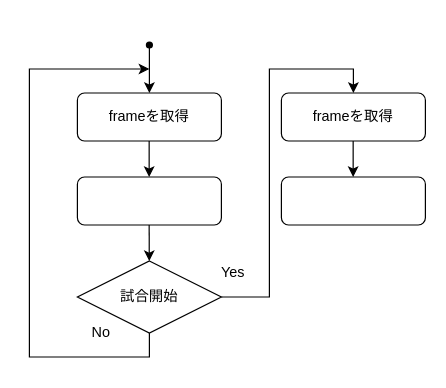
The diagram is 446 pixels wide and 388 high, and some of its shapes have lost their labels. Each missing label, with the centre of its shape:
"データの記録" goes at point 352,200.
"試合中かどうかを 判定" goes at point 148,200.
